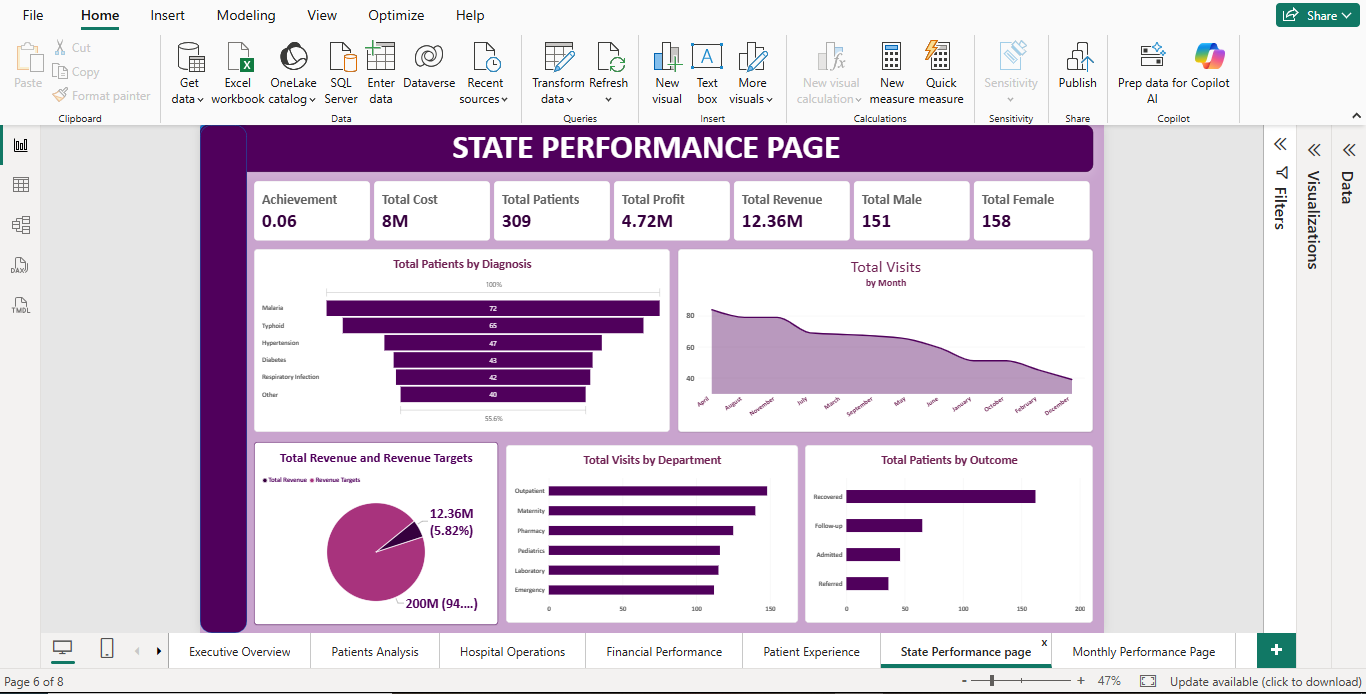

What the dashboard file says about the page in this screenshot:
{"tool":"powerbi","page":{"name":"State Performance  page","canvas":[1920,1080],"ordinal":5},"visuals":[{"type":"actionButton","box":[0,0,100,40],"z":0},{"type":"cardVisual","fields":{"Data":["All Measures.Achievement","All Measures.Total Cost","All Measures.Total Patients","All Measures.Total Profit","All Measures.Total Revenue","All Measures.Total Male","All Measures.Total Female"]},"box":[114.8,119.1,1783.7,127.6],"z":1000},{"type":"textbox","box":[0,0,1898.5,99.9],"z":2000},{"type":"stackedAreaChart","fields":{"Category":["Date_Table.Month"],"Y":["All Measures.Total Visits"]},"box":[1016.2,263.6,882.3,389.1],"z":2001},{"type":"clusteredBarChart","fields":{"Category":["Patient_Visits.Outcome"],"Y":["All Measures.Total Patients"]},"box":[1286.2,680.3,612.3,378.4],"z":2002},{"type":"barChart","fields":{"Category":["Patient_Visits.Department"],"Y":["All Measures.Total Visits"]},"box":[650.6,680.3,620.8,378.4],"z":2003},{"type":"pieChart","fields":{"Y":["All Measures.Total Revenue","All Measures.Revenue Targets"]},"box":[114.8,673.9,518.7,389.1],"z":2004},{"type":"funnel","fields":{"Category":["Patient_Visits.Diagnosis"],"Y":["All Measures.Total Patients"]},"box":[114.8,263.6,884.4,389.1],"z":2005},{"type":"shape","box":[0,0,99.9,1080],"z":2006}]}

Visuals, with their boxes on the page's 1920x1080 design canvas (x1, y1, x2, y2). These are canvas units, not pixel positions in the 1366x694 screenshot, which may show the page scaled, cropped or inside an application window:
actionButton: (0, 0, 100, 40)
cardVisual - All Measures.Achievement x All Measures.Total Cost: (115, 119, 1898, 247)
textbox: (0, 0, 1898, 100)
stackedAreaChart - Date_Table.Month x All Measures.Total Visits: (1016, 264, 1898, 653)
clusteredBarChart - Patient_Visits.Outcome x All Measures.Total Patients: (1286, 680, 1898, 1059)
barChart - Patient_Visits.Department x All Measures.Total Visits: (651, 680, 1271, 1059)
pieChart - All Measures.Total Revenue x All Measures.Revenue Targets: (115, 674, 634, 1063)
funnel - Patient_Visits.Diagnosis x All Measures.Total Patients: (115, 264, 999, 653)
shape: (0, 0, 100, 1080)
